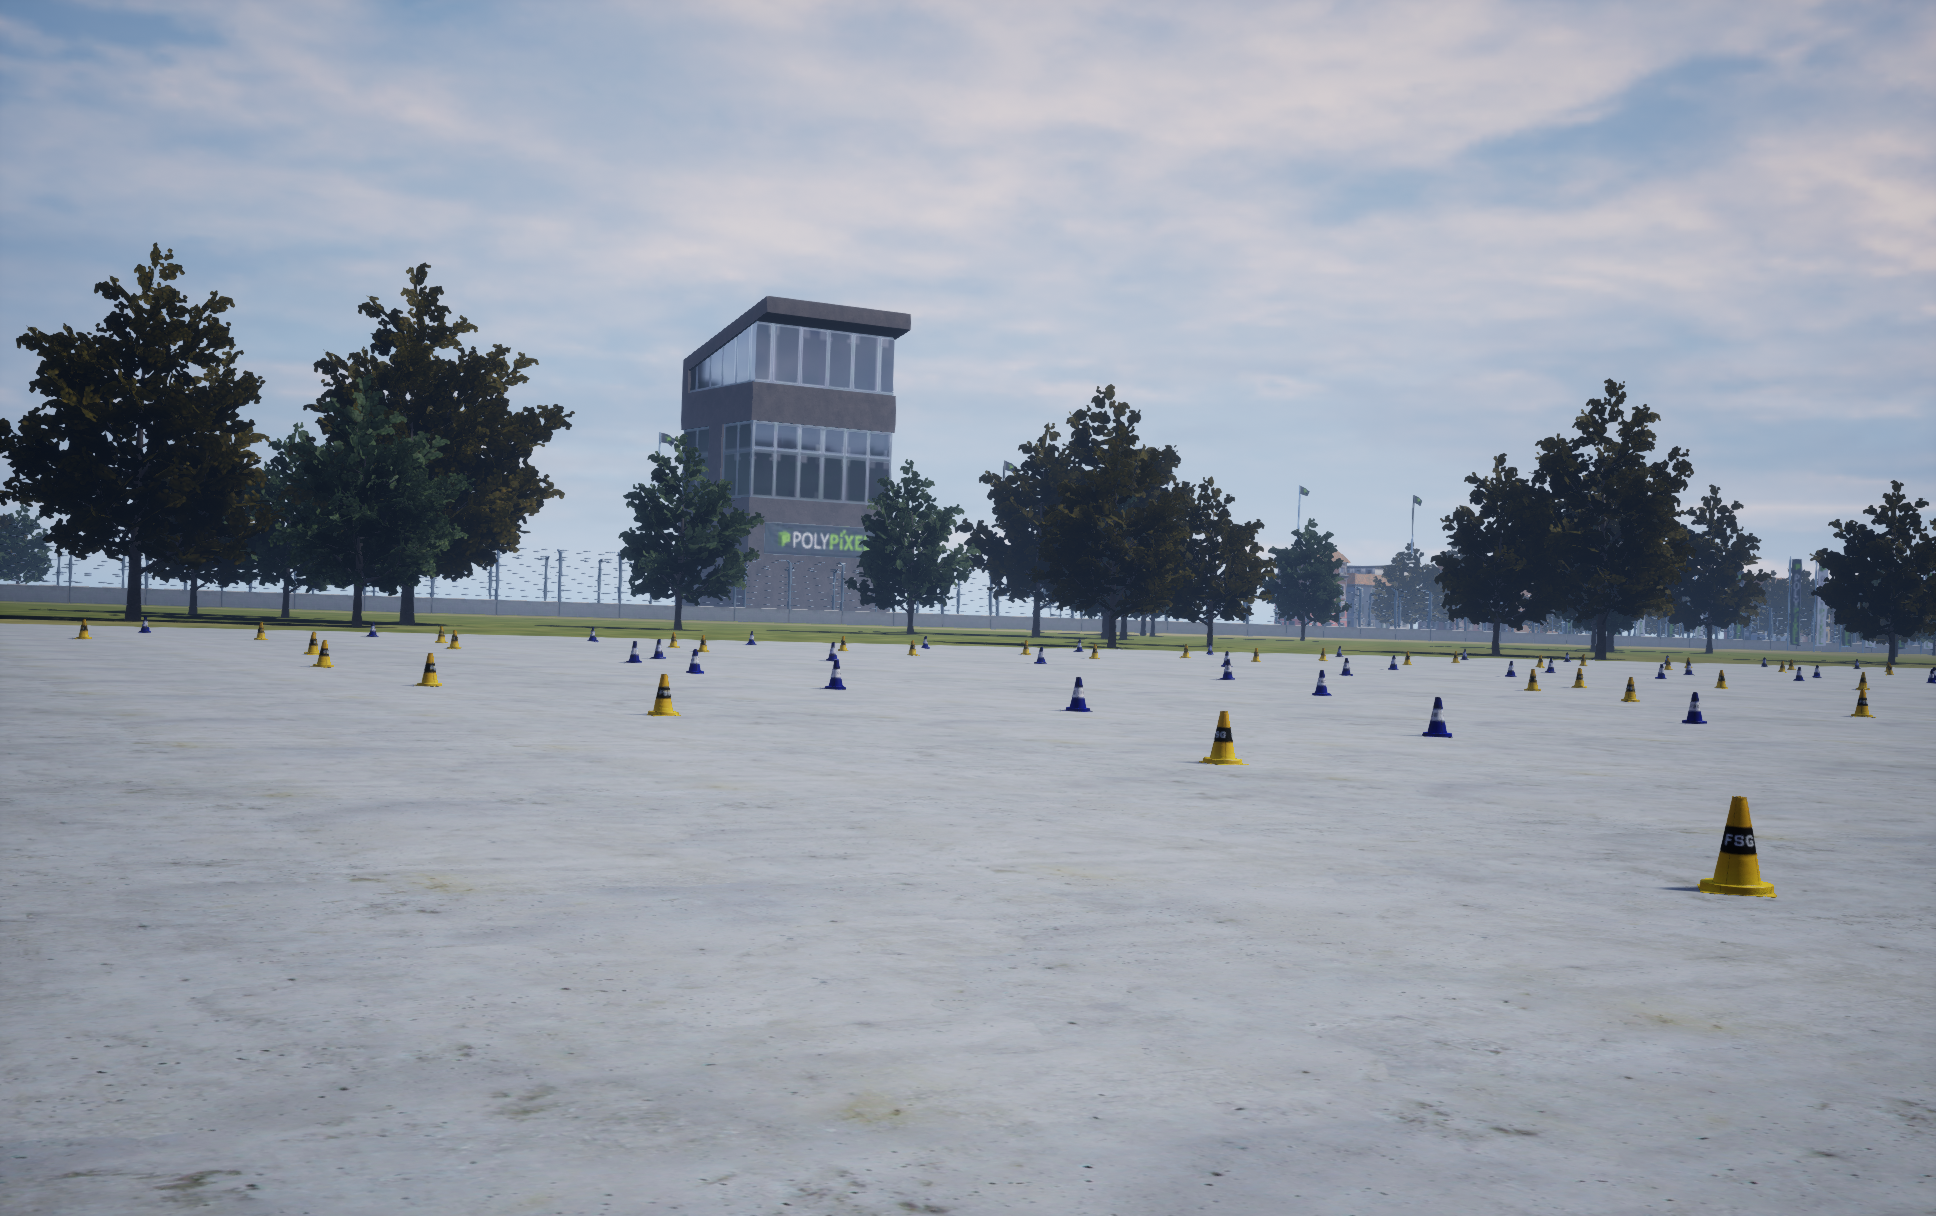blue: (1696, 796, 1776, 897), (1199, 712, 1248, 764), (647, 674, 679, 714), (415, 653, 441, 686), (1851, 689, 1874, 717), (310, 640, 333, 667), (1621, 677, 1639, 700), (304, 632, 319, 654), (73, 619, 91, 637), (1524, 670, 1540, 691), (1570, 668, 1586, 686), (447, 630, 461, 649)
yellow: (1422, 698, 1451, 737), (1060, 677, 1093, 712), (1682, 692, 1706, 723), (821, 660, 845, 689), (1313, 670, 1331, 695), (686, 649, 703, 672), (625, 642, 642, 663), (1217, 658, 1234, 679), (649, 639, 665, 658), (1339, 658, 1352, 675), (827, 642, 838, 660)
